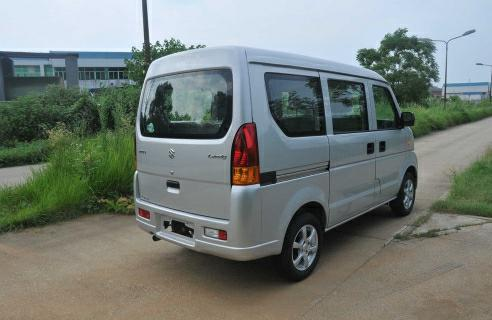起亚-凯尊: (125, 41, 427, 285)
